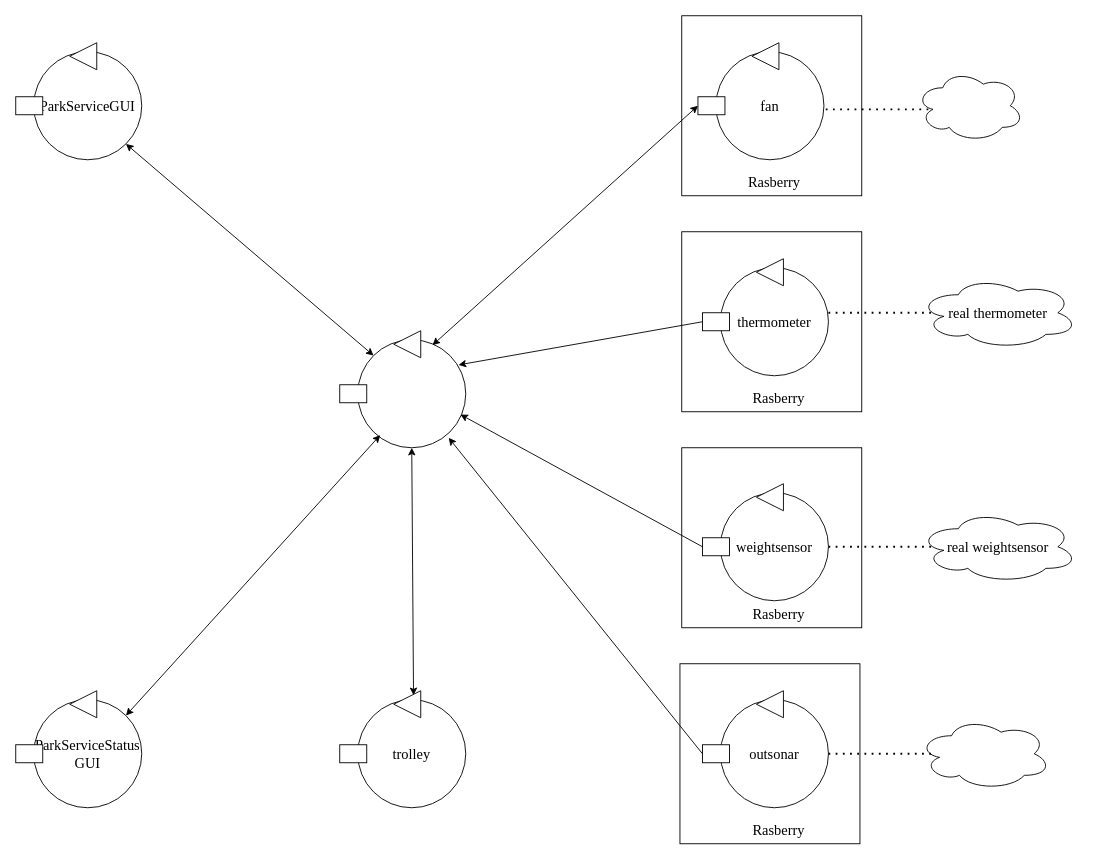
Image size: 1094x860. Some labels were removed from this diagram. Here are the shapes that lost their labels. From the top down, the box of each, then its label:
(915, 69, 1024, 142): real fan
(357, 339, 466, 448): ParkManager Service
(918, 717, 1051, 790): real outsonar
